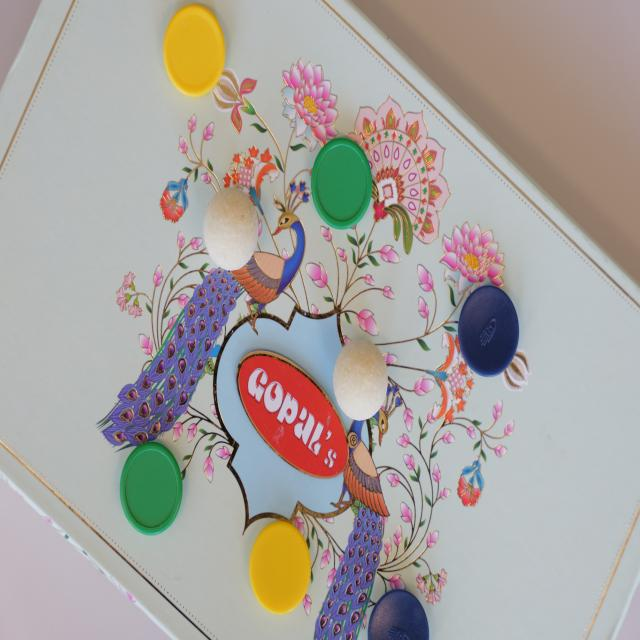Comtesse: (205, 185, 259, 268), (335, 336, 387, 418)
